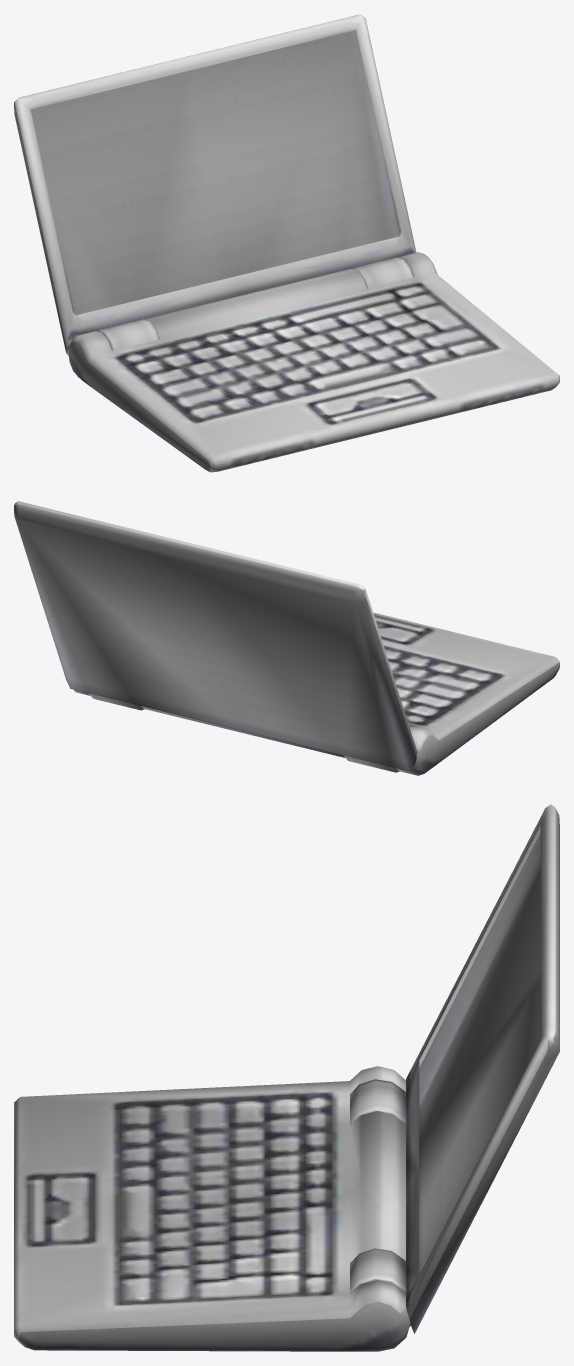
File: laptop.fbx
3 views of the same model, one above another, from view 1: azimuth 30°, elevation 25°; view 2: azimuth 150°, elevation 25°; view 3: azimuth 270°, elevation 25° (orthographic). The views are drawn at different scales.
Parts seen in each view (by area): view 1: Laptop; view 2: Laptop; view 3: Laptop.
Boxes of the visible parts, x1,y1,x2,y2 form: Laptop: (14,14,559,472); Laptop: (14,501,559,775); Laptop: (14,804,559,1351).
Bounding box in the file's own units: 36.08 × 23.24 × 35.82.
